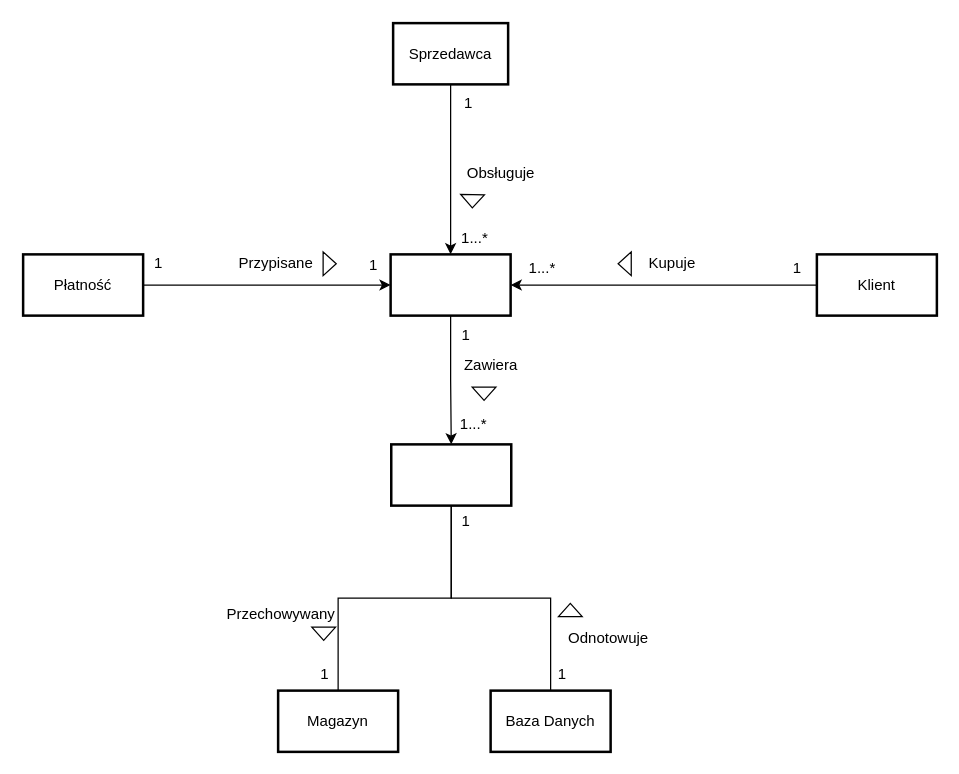
Image size: 959x774. Some labels were removed from this diagram. The shapes that lost their labels are listed below. From the top down, each one's centre as x and y in pixels, then its label:
At point (450, 284): "Zakup".
At point (450, 474): "Produkt".
